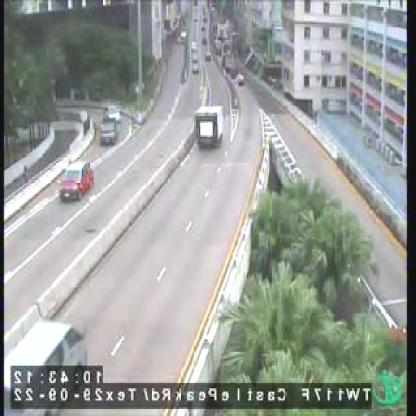Car: (59, 158, 96, 201), (98, 118, 119, 151), (104, 102, 122, 121), (239, 73, 246, 85), (191, 66, 199, 76), (207, 50, 210, 62)
Truck: (5, 316, 95, 409), (192, 101, 225, 149)
